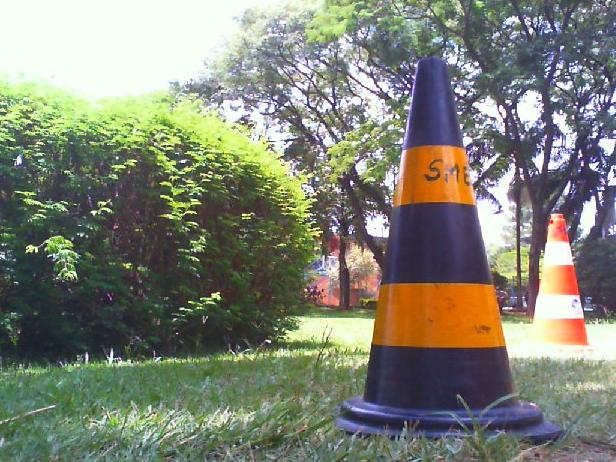0 cone: (333, 57, 563, 448), (531, 213, 591, 348)
